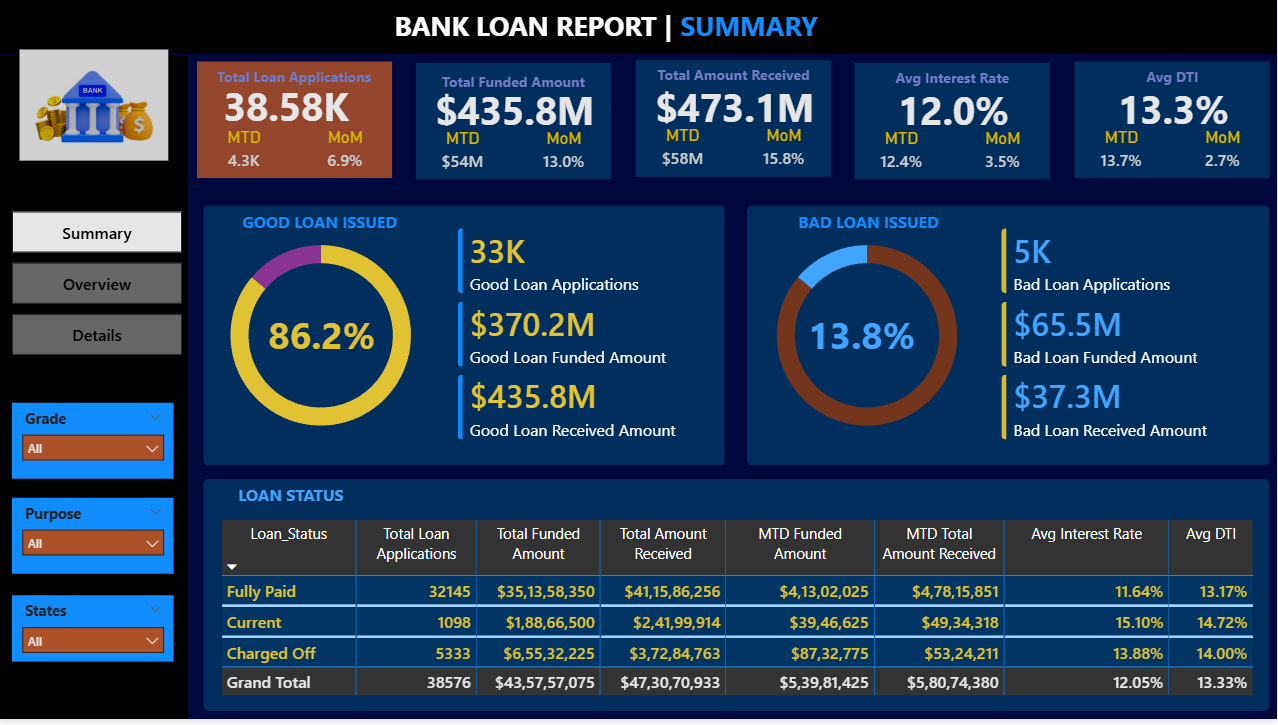

This screenshot's page, from the dashboard's own definition file:
{"tool":"powerbi","page":{"name":"Summary","canvas":[1280,720],"ordinal":0},"visuals":[{"type":"shape","box":[638.7,61.4,195.1,116.6],"z":0,"group":"g3"},{"type":"shape","box":[200,62.6,195.1,116.6],"z":0,"group":"g1"},{"type":"shape","box":[1077.3,62.6,195.1,116.6],"z":0,"group":"g5"},{"type":"shape","box":[419.3,63.8,195.1,116.6],"z":0,"group":"g2"},{"type":"shape","box":[858,63.8,195.1,116.6],"z":0,"group":"g4"},{"type":"card","fields":{"Values":["financial_loan.Total Loan Applications"]},"box":[217.5,86.7,143.6,41.7],"z":1000,"group":"g1"},{"type":"card","fields":{"Values":["financial_loan.Total Amount Received"]},"box":[650.5,87.4,175.5,41.7],"z":1000,"group":"g3"},{"type":"card","fields":{"Values":["financial_loan.AVg DTI"]},"box":[1089.1,88.6,175.5,41.7],"z":1000,"group":"g5"},{"type":"card","fields":{"Values":["financial_loan.Total Funded Amount"]},"box":[431.1,89.8,175.5,41.7],"z":1000,"group":"g2"},{"type":"card","fields":{"Values":["financial_loan.Avg Interest Rate"]},"box":[869.8,89.8,175.5,41.7],"z":1000,"group":"g4"},{"type":"textbox","box":[653.4,61.4,165.6,40.5],"z":2000,"group":"g3"},{"type":"textbox","box":[214.7,62.6,165.6,40.5],"z":2000,"group":"g1"},{"type":"textbox","box":[1092,62.6,165.6,40.5],"z":2000,"group":"g5"},{"type":"textbox","box":[872.7,63.8,165.6,40.5],"z":2000,"group":"g4"},{"type":"textbox","box":[441,67.7,185.3,36.8],"z":2000,"group":"g2"},{"type":"shape","box":[206.1,206.1,521.5,260.1],"z":2000},{"type":"card","title":"MTD","fields":{"Values":["financial_loan.MTD Total Amount Received"]},"box":[653.4,126.4,63.8,51.5],"z":3000,"group":"g3"},{"type":"card","title":"MTD","fields":{"Values":["financial_loan.MTD Loan Applications"]},"box":[214.7,127.6,63.8,51.5],"z":3000,"group":"g1"},{"type":"card","title":"MTD","fields":{"Values":["financial_loan.MTD Avg DTI"]},"box":[1092,127.6,63.8,51.5],"z":3000,"group":"g5"},{"type":"card","title":"MTD","fields":{"Values":["financial_loan.MTD Funded Amount"]},"box":[434,128.8,63.8,51.5],"z":3000,"group":"g2"},{"type":"card","title":"MTD","fields":{"Values":["financial_loan.MTD Avg Int Rate"]},"box":[872.7,128.8,63.8,51.5],"z":3000,"group":"g4"},{"type":"card","fields":{"Values":["financial_loan.Good Loan %"]},"box":[254,315.3,142.3,41.7],"z":3000},{"type":"shape","box":[0,0,1279.8,55.2],"z":3500},{"type":"textbox","box":[392.6,3.7,496.9,51.5],"z":4000},{"type":"card","title":"MoM","fields":{"Values":["financial_loan.Mom Total Amount Received"]},"box":[755.3,126.4,63.8,51.5],"z":4000,"group":"g3"},{"type":"card","title":"MoM","fields":{"Values":["financial_loan.Mom LOan Applications"]},"box":[316.6,127.6,63.8,51.5],"z":4000,"group":"g1"},{"type":"card","title":"MoM","fields":{"Values":["financial_loan.MoM Avg DTI"]},"box":[1193.9,127.6,63.8,51.5],"z":4000,"group":"g5"},{"type":"card","title":"MoM","fields":{"Values":["financial_loan.Mom Total Funded Amount"]},"box":[535.9,128.8,63.8,51.5],"z":4000,"group":"g2"},{"type":"card","title":"MoM","fields":{"Values":["financial_loan.Mom Avg Int Rate"]},"box":[974.6,128.8,63.8,51.5],"z":4000,"group":"g4"},{"type":"group","id":"g1","title":"Group 1","box":[200,62.6,195.1,116.6],"z":5000},{"type":"group","id":"g2","title":"Group 1","box":[419.3,63.8,207,116.6],"z":6000},{"type":"group","id":"g3","title":"Group 1","box":[638.7,61.4,195.1,116.6],"z":7000},{"type":"group","id":"g4","title":"Group 1","box":[858,63.8,195.1,116.6],"z":8000},{"type":"group","id":"g5","title":"Group 1","box":[1077.3,62.6,195.1,116.6],"z":9000},{"type":"donutChart","fields":{"Category":["financial_loan.Good Loan vs Bad Loan"],"Y":["financial_loan.Total Loan Applications"]},"box":[198.8,218.4,250.3,235.6],"z":10000},{"type":"shape","box":[749.7,206.1,522.7,260.1],"z":11000},{"type":"textbox","box":[236.8,206.1,173,31.9],"z":12000},{"type":"cardVisual","fields":{"Data":["financial_loan.Good Loan Applications","financial_loan.Good Loan Funded Amount","financial_loan.Good Loan Received Amount"]},"box":[444.2,212.3,272.4,247.9],"z":13000},{"type":"donutChart","fields":{"Category":["financial_loan.Good Loan vs Bad Loan"],"Y":["financial_loan.Total Loan Applications"]},"box":[744.8,218.4,250.3,235.6],"z":14000},{"type":"textbox","box":[787.7,206.1,168.1,31.9],"z":15000},{"type":"shape","box":[0,56.4,191.4,663.8],"z":15500},{"type":"card","fields":{"Values":["financial_loan.Bad Loan %"]},"box":[793.9,315.3,142.3,41.7],"z":16000},{"type":"shape","box":[206.1,479.8,1066.3,231.9],"z":17000},{"type":"cardVisual","fields":{"Data":["financial_loan.Bad Loan Applications","financial_loan.Bad Loan Funded Amount","financial_loan.Bad Loan Received Amount"]},"box":[987.7,212.3,272.4,247.9],"z":18000},{"type":"tableEx","fields":{"Values":["financial_loan.loan_status","financial_loan.Total Loan Applications","financial_loan.Total Funded Amount","financial_loan.Total Amount Received","financial_loan.MTD Funded Amount","financial_loan.MTD Total Amount Received","financial_loan.Avg Interest Rate","financial_loan.AVg DTI"]},"box":[218.4,516.6,1043,186.5],"z":19000},{"type":"textbox","box":[236.8,479.8,123.9,36.8],"z":20000},{"type":"slicer","fields":{"Values":["financial_loan.address_state"]},"box":[14.7,596.3,162,66.3],"z":21000},{"type":"slicer","fields":{"Values":["financial_loan.purpose"]},"box":[14.7,498.2,162,76.1],"z":22000},{"type":"image","box":[22.1,30.7,148.5,149.7],"z":22500},{"type":"slicer","fields":{"Values":["financial_loan.grade"]},"box":[14.7,403.7,162,76.1],"z":23000},{"type":"pageNavigator","box":[14.7,212.3,170.6,144.8],"z":23001}]}

Visuals, with their boxes in screenshot pixels (x1, y1, x2, y2), scaled from the page's 1280x720 canvas onto the 1278x725 screenshot:
shape: select_region(638, 62, 832, 179)
shape: select_region(200, 63, 394, 180)
shape: select_region(1076, 63, 1270, 180)
shape: select_region(419, 64, 613, 182)
shape: select_region(857, 64, 1051, 182)
card - financial_loan.Total Loan Applications: select_region(217, 87, 361, 129)
card - financial_loan.Total Amount Received: select_region(649, 88, 825, 130)
card - financial_loan.AVg DTI: select_region(1087, 89, 1263, 131)
card - financial_loan.Total Funded Amount: select_region(430, 90, 606, 132)
card - financial_loan.Avg Interest Rate: select_region(868, 90, 1044, 132)
textbox: select_region(652, 62, 818, 103)
textbox: select_region(214, 63, 380, 104)
textbox: select_region(1090, 63, 1256, 104)
textbox: select_region(871, 64, 1037, 105)
textbox: select_region(440, 68, 625, 105)
shape: select_region(206, 208, 726, 469)
"MTD" card: select_region(652, 127, 716, 179)
"MTD" card: select_region(214, 128, 278, 180)
"MTD" card: select_region(1090, 128, 1154, 180)
"MTD" card: select_region(433, 130, 497, 182)
"MTD" card: select_region(871, 130, 935, 182)
card - financial_loan.Good Loan %: select_region(254, 317, 396, 359)
shape: select_region(0, 0, 1277, 56)
textbox: select_region(392, 4, 888, 56)
"MoM" card: select_region(754, 127, 818, 179)
"MoM" card: select_region(316, 128, 380, 180)
"MoM" card: select_region(1192, 128, 1256, 180)
"MoM" card: select_region(535, 130, 599, 182)
"MoM" card: select_region(973, 130, 1037, 182)
"Group 1" group: select_region(200, 63, 394, 180)
"Group 1" group: select_region(419, 64, 625, 182)
"Group 1" group: select_region(638, 62, 832, 179)
"Group 1" group: select_region(857, 64, 1051, 182)
"Group 1" group: select_region(1076, 63, 1270, 180)
donutChart - financial_loan.Good Loan vs Bad Loan x financial_loan.Total Loan Applications: select_region(198, 220, 448, 457)
shape: select_region(749, 208, 1270, 469)
textbox: select_region(236, 208, 409, 240)
cardVisual - financial_loan.Good Loan Applications x financial_loan.Good Loan Funded Amount: select_region(444, 214, 715, 463)
donutChart - financial_loan.Good Loan vs Bad Loan x financial_loan.Total Loan Applications: select_region(744, 220, 994, 457)
textbox: select_region(786, 208, 954, 240)
shape: select_region(0, 57, 191, 724)
card - financial_loan.Bad Loan %: select_region(793, 317, 935, 359)
shape: select_region(206, 483, 1270, 717)
cardVisual - financial_loan.Bad Loan Applications x financial_loan.Bad Loan Funded Amount: select_region(986, 214, 1258, 463)
tableEx - financial_loan.loan_status x financial_loan.Total Loan Applications: select_region(218, 520, 1259, 708)
textbox: select_region(236, 483, 360, 520)
slicer - financial_loan.address_state: select_region(15, 600, 176, 667)
slicer - financial_loan.purpose: select_region(15, 502, 176, 578)
image: select_region(22, 31, 170, 182)
slicer - financial_loan.grade: select_region(15, 407, 176, 483)
pageNavigator: select_region(15, 214, 185, 360)
